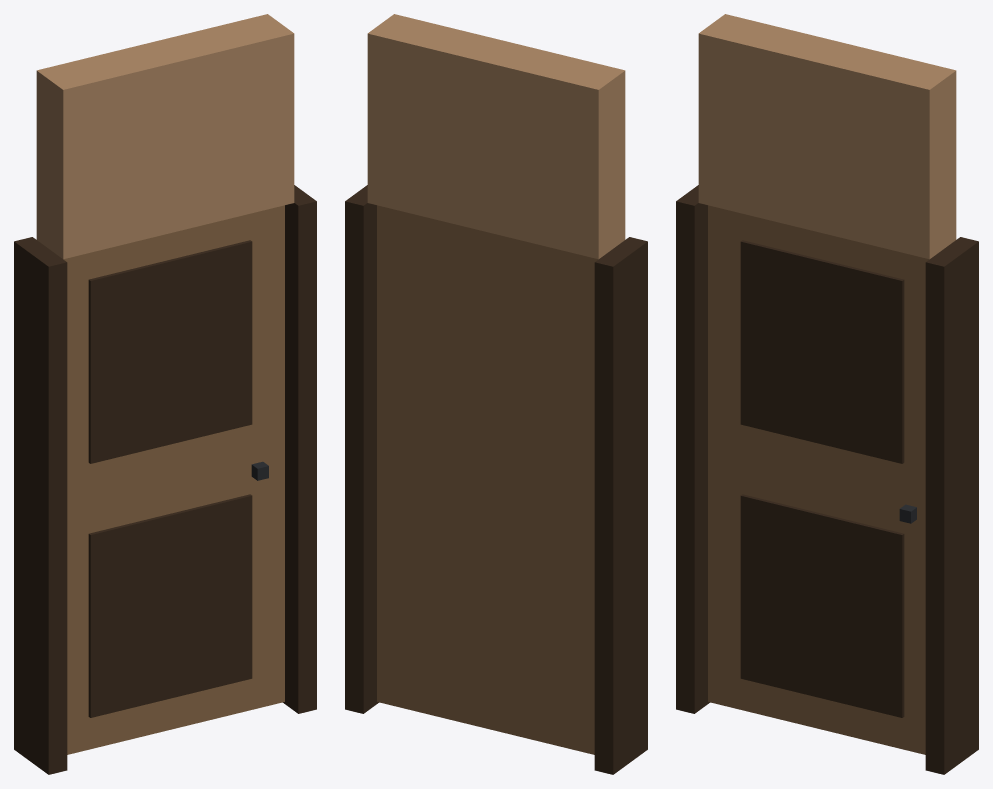
File: ENV_Cabin_Door_A.glb
3 views of the same model, side by side, from view 1: azimuth 30°, elevation 25°; view 2: azimuth 150°, elevation 25°; view 3: azimuth 330°, elevation 25° (orthographic).
Visible parts, largest first — view 1: ENV_Cabin_Door_A_Lintel, door, ENV_Cabin_Door_A_Panel0, ENV_Cabin_Door_A_Panel1, ENV_Cabin_Door_A_Post0, ENV_Cabin_Door_A_Post1; view 2: door, ENV_Cabin_Door_A_Lintel, ENV_Cabin_Door_A_Post0, ENV_Cabin_Door_A_Post1; view 3: ENV_Cabin_Door_A_Lintel, door, ENV_Cabin_Door_A_Panel0, ENV_Cabin_Door_A_Panel1, ENV_Cabin_Door_A_Post1, ENV_Cabin_Door_A_Post0.
Part boxes in pixels (x1,y1,x2,y2): ENV_Cabin_Door_A_Lintel: (36, 14, 294, 259); door: (63, 205, 284, 754); ENV_Cabin_Door_A_Panel0: (88, 494, 252, 717); ENV_Cabin_Door_A_Panel1: (88, 240, 252, 463); ENV_Cabin_Door_A_Post0: (14, 237, 67, 774); ENV_Cabin_Door_A_Post1: (283, 185, 316, 713); door: (377, 205, 598, 754); ENV_Cabin_Door_A_Lintel: (367, 14, 625, 259); ENV_Cabin_Door_A_Post0: (594, 237, 647, 774); ENV_Cabin_Door_A_Post1: (345, 185, 378, 713); ENV_Cabin_Door_A_Lintel: (698, 14, 956, 259); door: (708, 205, 929, 754); ENV_Cabin_Door_A_Panel0: (740, 494, 904, 717); ENV_Cabin_Door_A_Panel1: (740, 240, 904, 463); ENV_Cabin_Door_A_Post1: (925, 237, 978, 774); ENV_Cabin_Door_A_Post0: (676, 185, 709, 713).
Bounding box in the file's own units: 1.16 × 2.8 × 0.26.
